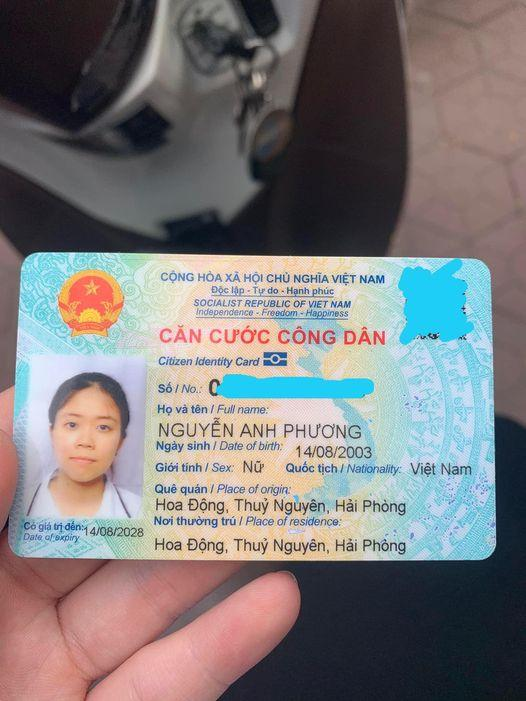bottom_left: (2, 538, 29, 562)
bottom_right: (480, 538, 500, 562)
image_person: (26, 356, 146, 518)
top_left: (12, 242, 40, 268)
top_right: (474, 253, 504, 276)
